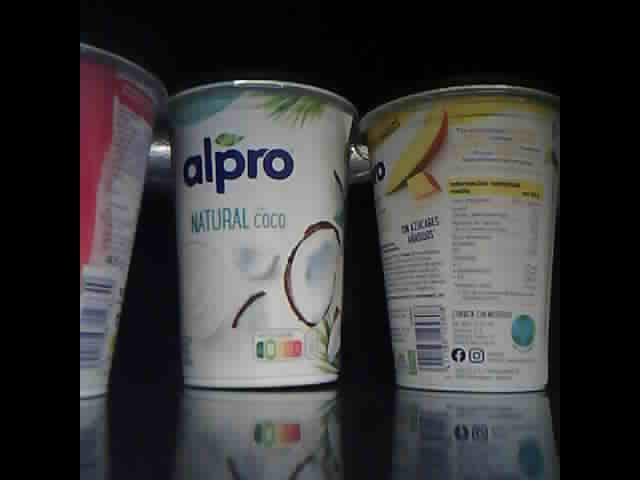alpro: (353, 78, 560, 396), (162, 70, 360, 392), (80, 27, 166, 402)
